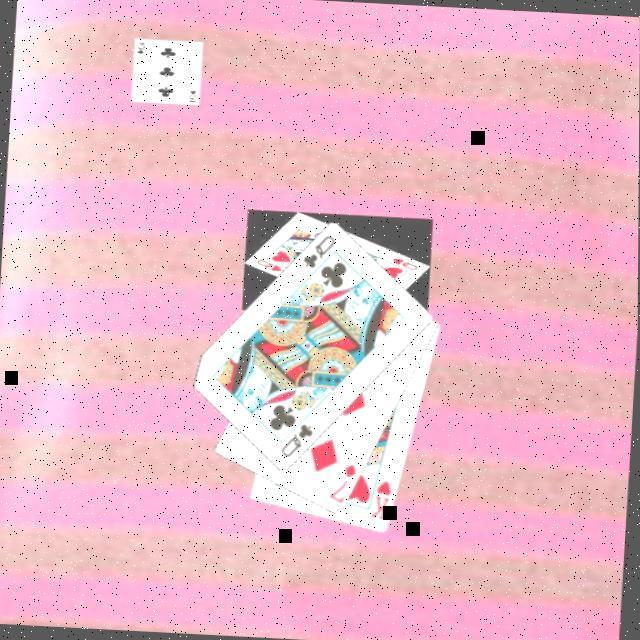7D: (324, 457, 358, 505)
KH: (366, 474, 394, 522)
QC: (275, 418, 315, 460), (297, 230, 337, 272)
